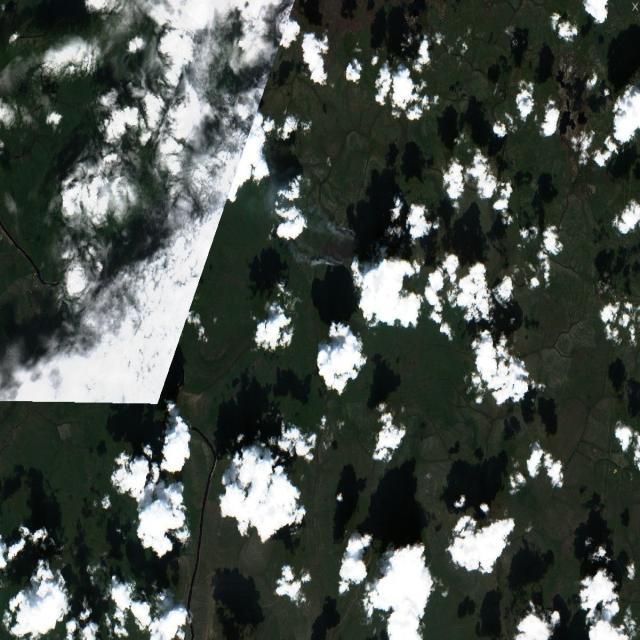fire: (310, 212, 368, 282)
